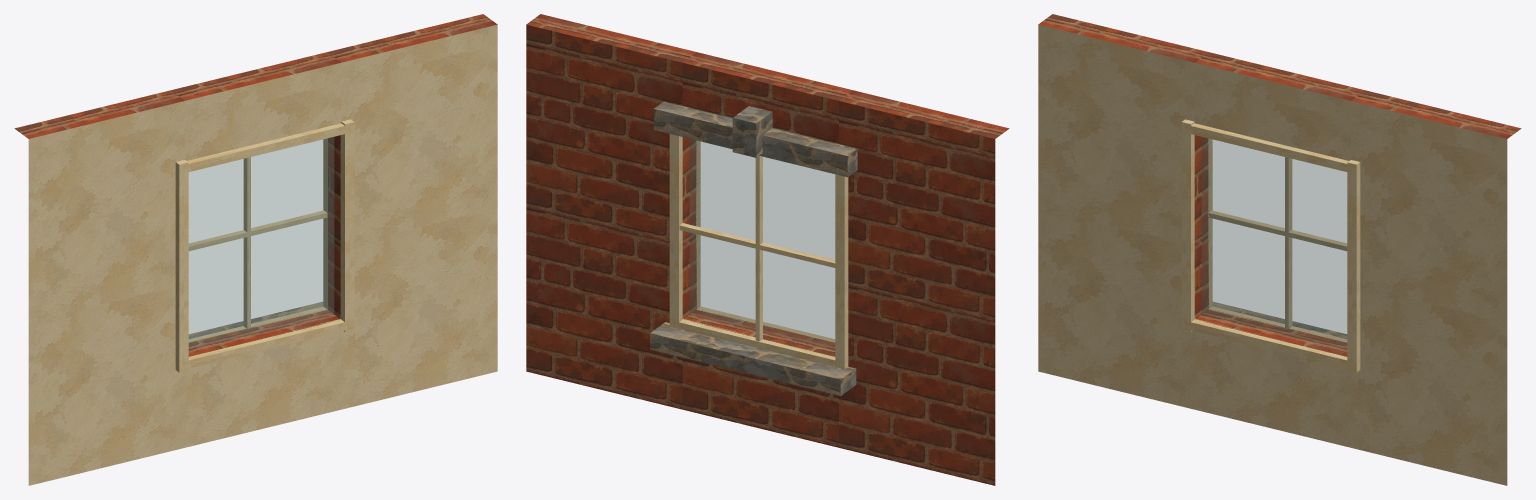
File: hospital-sash-v1.gltf
3 renders of one model, left to right at view 1: azimuth 30°, elevation 25°; view 2: azimuth 150°, elevation 25°; view 3: azimuth 330°, elevation 25°, orthographic.
Parts seen in each view (by area): view 1: exterior-L0-plaster, glazing-L0-glass, facade-trim-L0-sash, datum-band-L0-plaster, datum-band-L0-brick, exterior-L0-brick, facade-trim-L0-stone; view 2: exterior-L0-brick, glazing-L0-glass, datum-band-L0-brick, facade-trim-L0-stone, facade-trim-L0-sash; view 3: exterior-L0-plaster, glazing-L0-glass, facade-trim-L0-sash, datum-band-L0-plaster, datum-band-L0-brick, exterior-L0-brick, facade-trim-L0-stone.
Part boxes in pixels (left/top/right/bottom): exterior-L0-plaster: left=28, top=44, right=497, bottom=485; glazing-L0-glass: left=189, top=137, right=333, bottom=349; facade-trim-L0-sash: left=175, top=119, right=354, bottom=372; datum-band-L0-plaster: left=28, top=24, right=497, bottom=158; datum-band-L0-brick: left=14, top=14, right=497, bottom=138; exterior-L0-brick: left=188, top=135, right=340, bottom=356; facade-trim-L0-stone: left=188, top=302, right=323, bottom=338; exterior-L0-brick: left=526, top=44, right=995, bottom=485; glazing-L0-glass: left=690, top=139, right=834, bottom=349; datum-band-L0-brick: left=526, top=14, right=1009, bottom=158; facade-trim-L0-stone: left=650, top=101, right=857, bottom=395; facade-trim-L0-sash: left=669, top=134, right=848, bottom=369; exterior-L0-plaster: left=1038, top=44, right=1507, bottom=485; glazing-L0-glass: left=1202, top=137, right=1346, bottom=349; facade-trim-L0-sash: left=1181, top=119, right=1360, bottom=372; datum-band-L0-plaster: left=1038, top=24, right=1507, bottom=158; datum-band-L0-brick: left=1038, top=14, right=1521, bottom=138; exterior-L0-brick: left=1194, top=135, right=1347, bottom=356; facade-trim-L0-stone: left=1212, top=302, right=1347, bottom=338.
Bounding box in the file's own units: 3 × 2.12 × 0.38.
5 materials, 4 textured.
